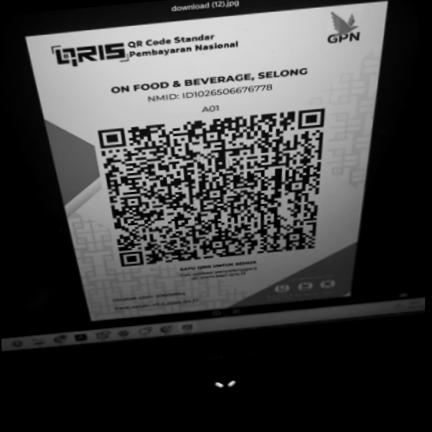Cara Pakai QRIS: (256, 269, 351, 304)
Cek Aplikasi Penyelenggara: (176, 264, 261, 282)
Dicetak Oleh: (108, 288, 190, 303)
Logo GPN: (317, 4, 370, 51)
Logo dan deskripsi QRIS: (41, 21, 255, 72)
Nama Merchant: (104, 62, 314, 96)
National Merchant ID: (142, 80, 279, 105)
QR Code: (89, 105, 332, 271)
Slogan: (176, 257, 261, 272)
Terminal ID: (197, 102, 224, 114)
Versi Cetak: (109, 296, 201, 312)
